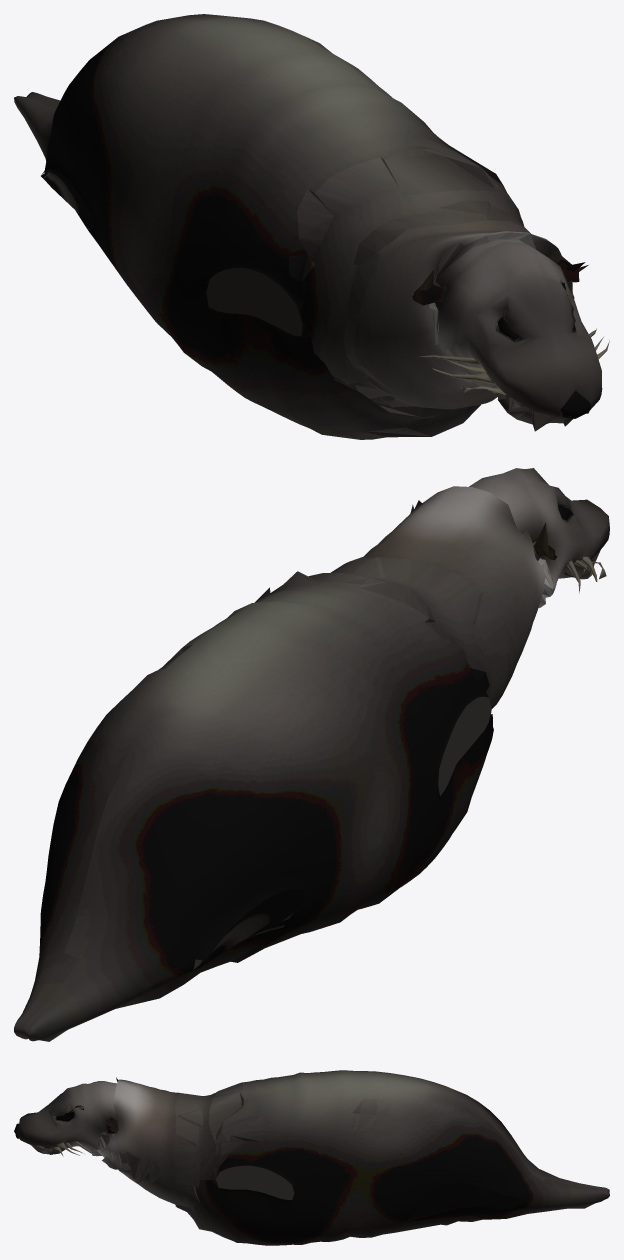
Rendered from foca_torso.obj.
3 renders of one model, top to bottom at view 1: azimuth 30°, elevation 25°; view 2: azimuth 150°, elevation 25°; view 3: azimuth 270°, elevation 25°, orthographic. The views are drawn at different scales.
Visible parts, largest first — view 1: sea; view 2: sea; view 3: sea.
Part boxes in pixels (x1,y1,x2,y2): sea: (14,14,609,439); sea: (14,468,609,1041); sea: (14,1070,609,1245).
Bounding box in the file's own units: 1.15 × 1.23 × 4.27.
Materials: 4 (1 with a texture image).
